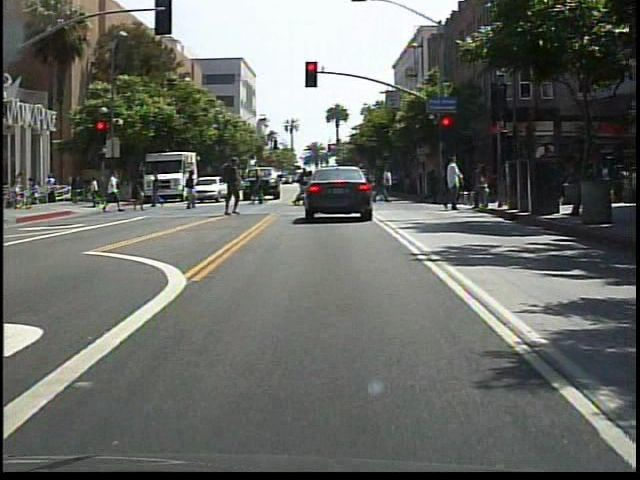person: (219, 155, 248, 223), (437, 154, 470, 212), (349, 165, 372, 218), (102, 170, 125, 214), (182, 168, 203, 212), (147, 169, 166, 211), (132, 171, 147, 216), (252, 169, 269, 207)
